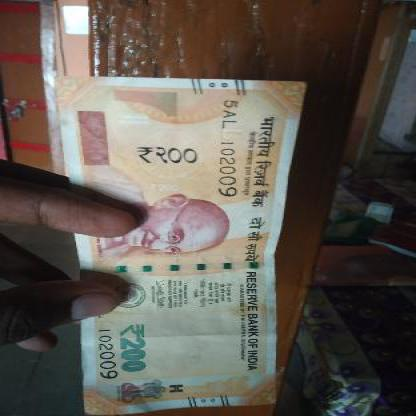New200Front: (56, 76, 280, 408)
